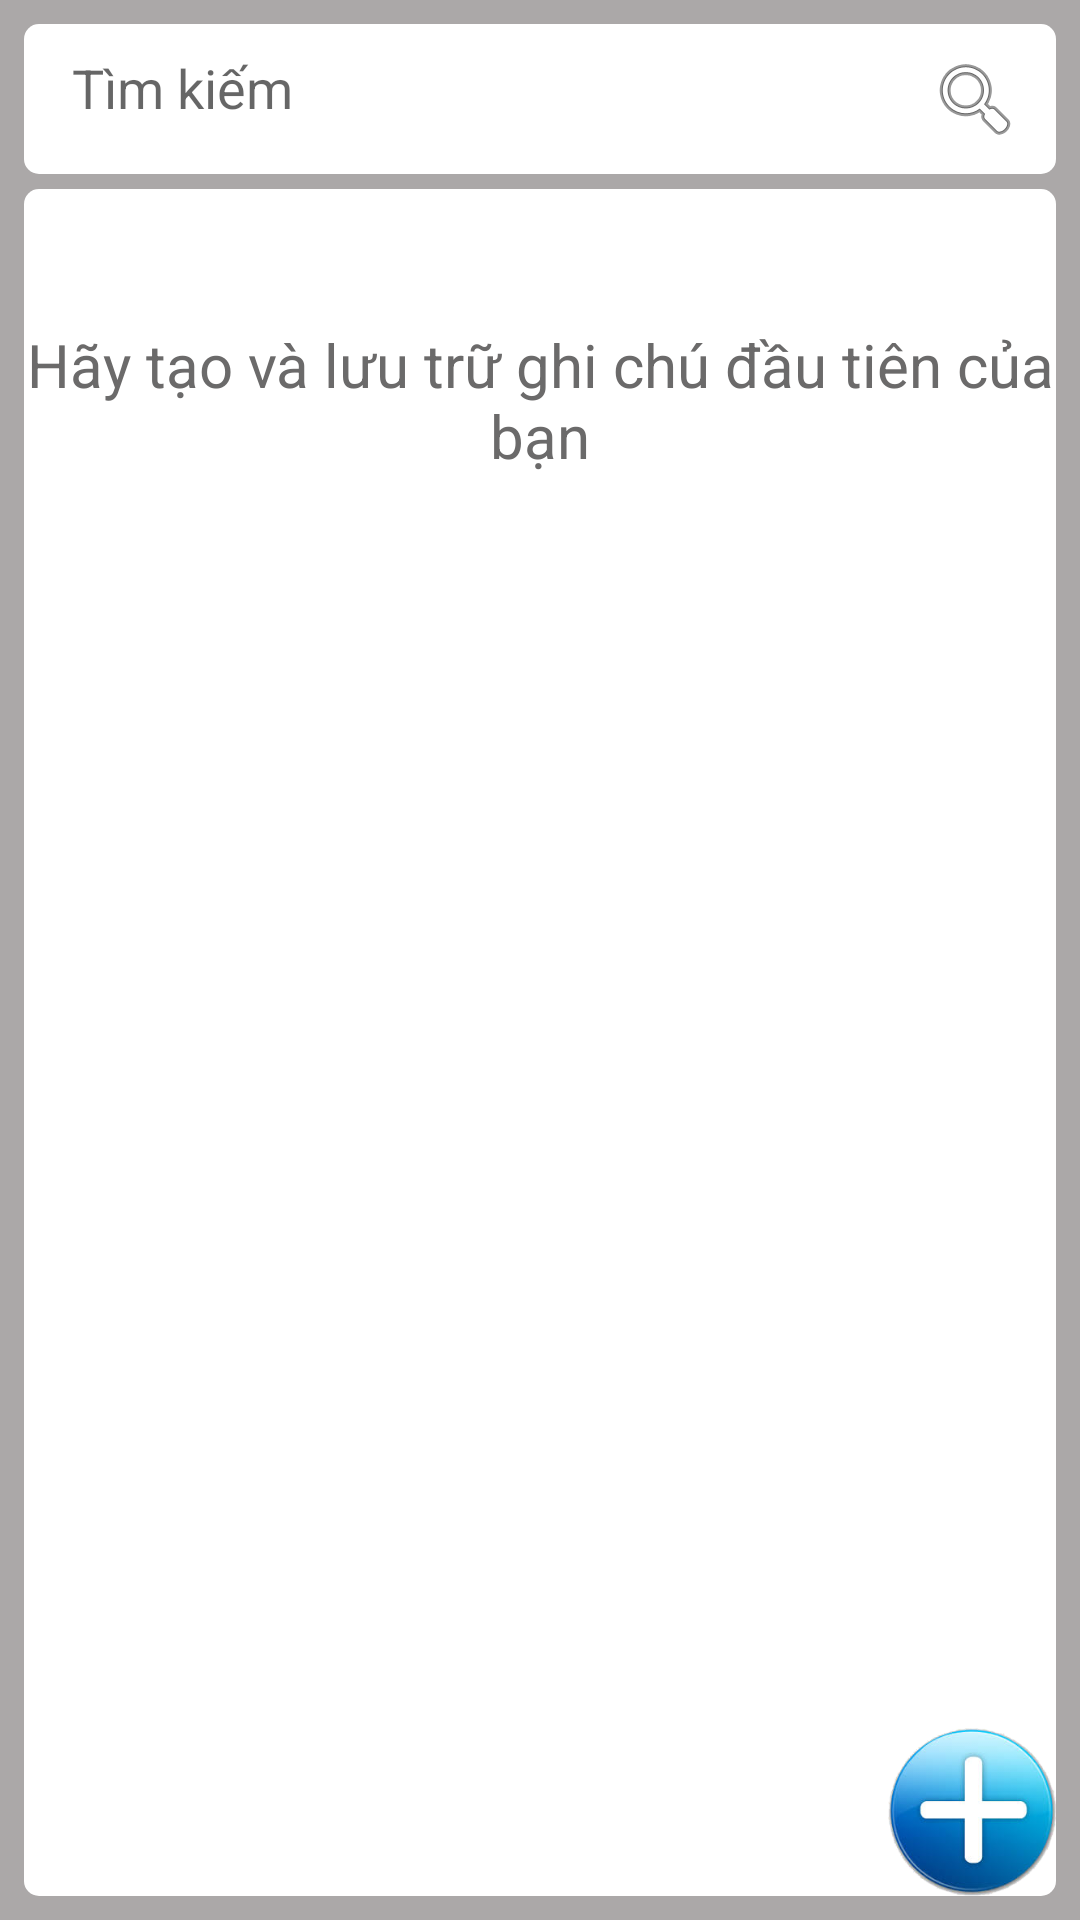

Where icons sit on this 1080 × 1920 app screen, as {"x1": x1, "y1": y1, "x2": x2, "y2": y2}:
add: {"x1": 889, "y1": 1729, "x2": 1056, "y2": 1896}
search: {"x1": 939, "y1": 64, "x2": 1011, "y2": 135}
